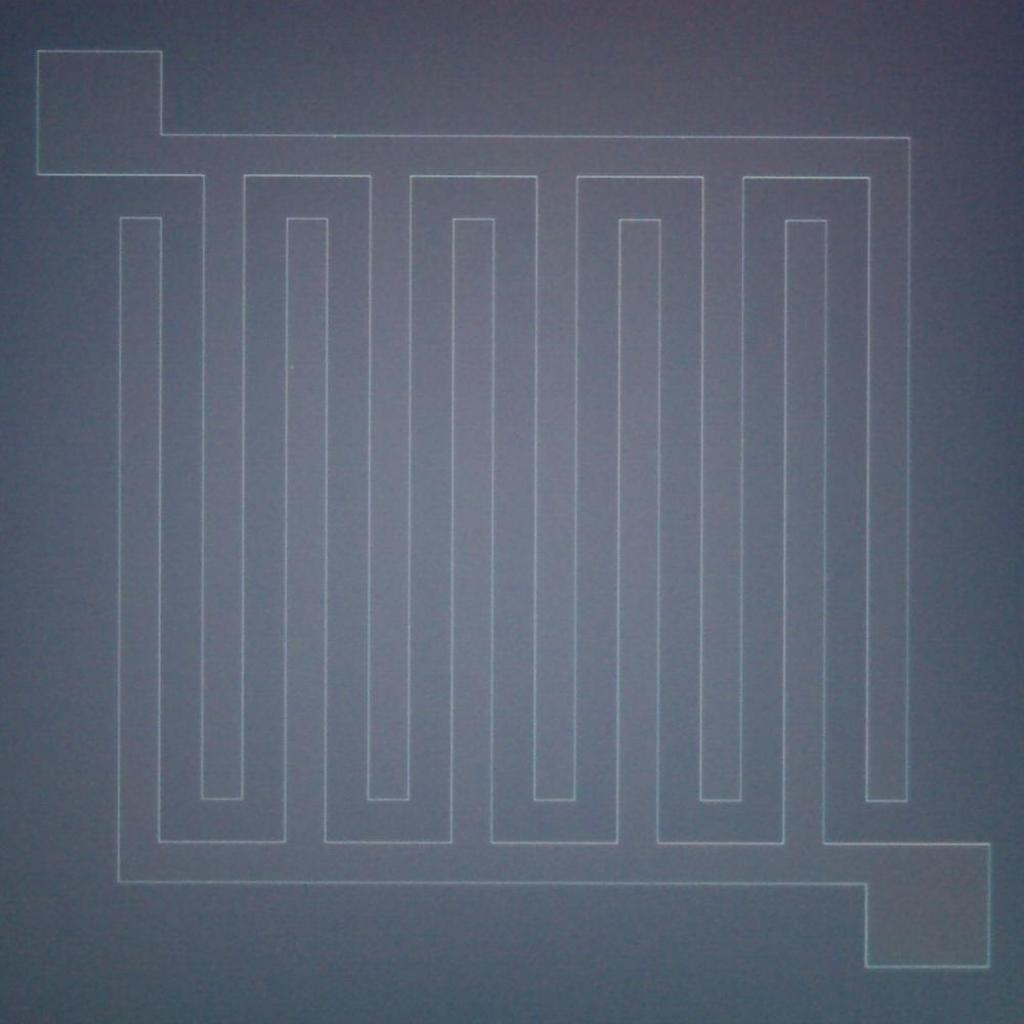dot: (290, 366, 294, 370)
